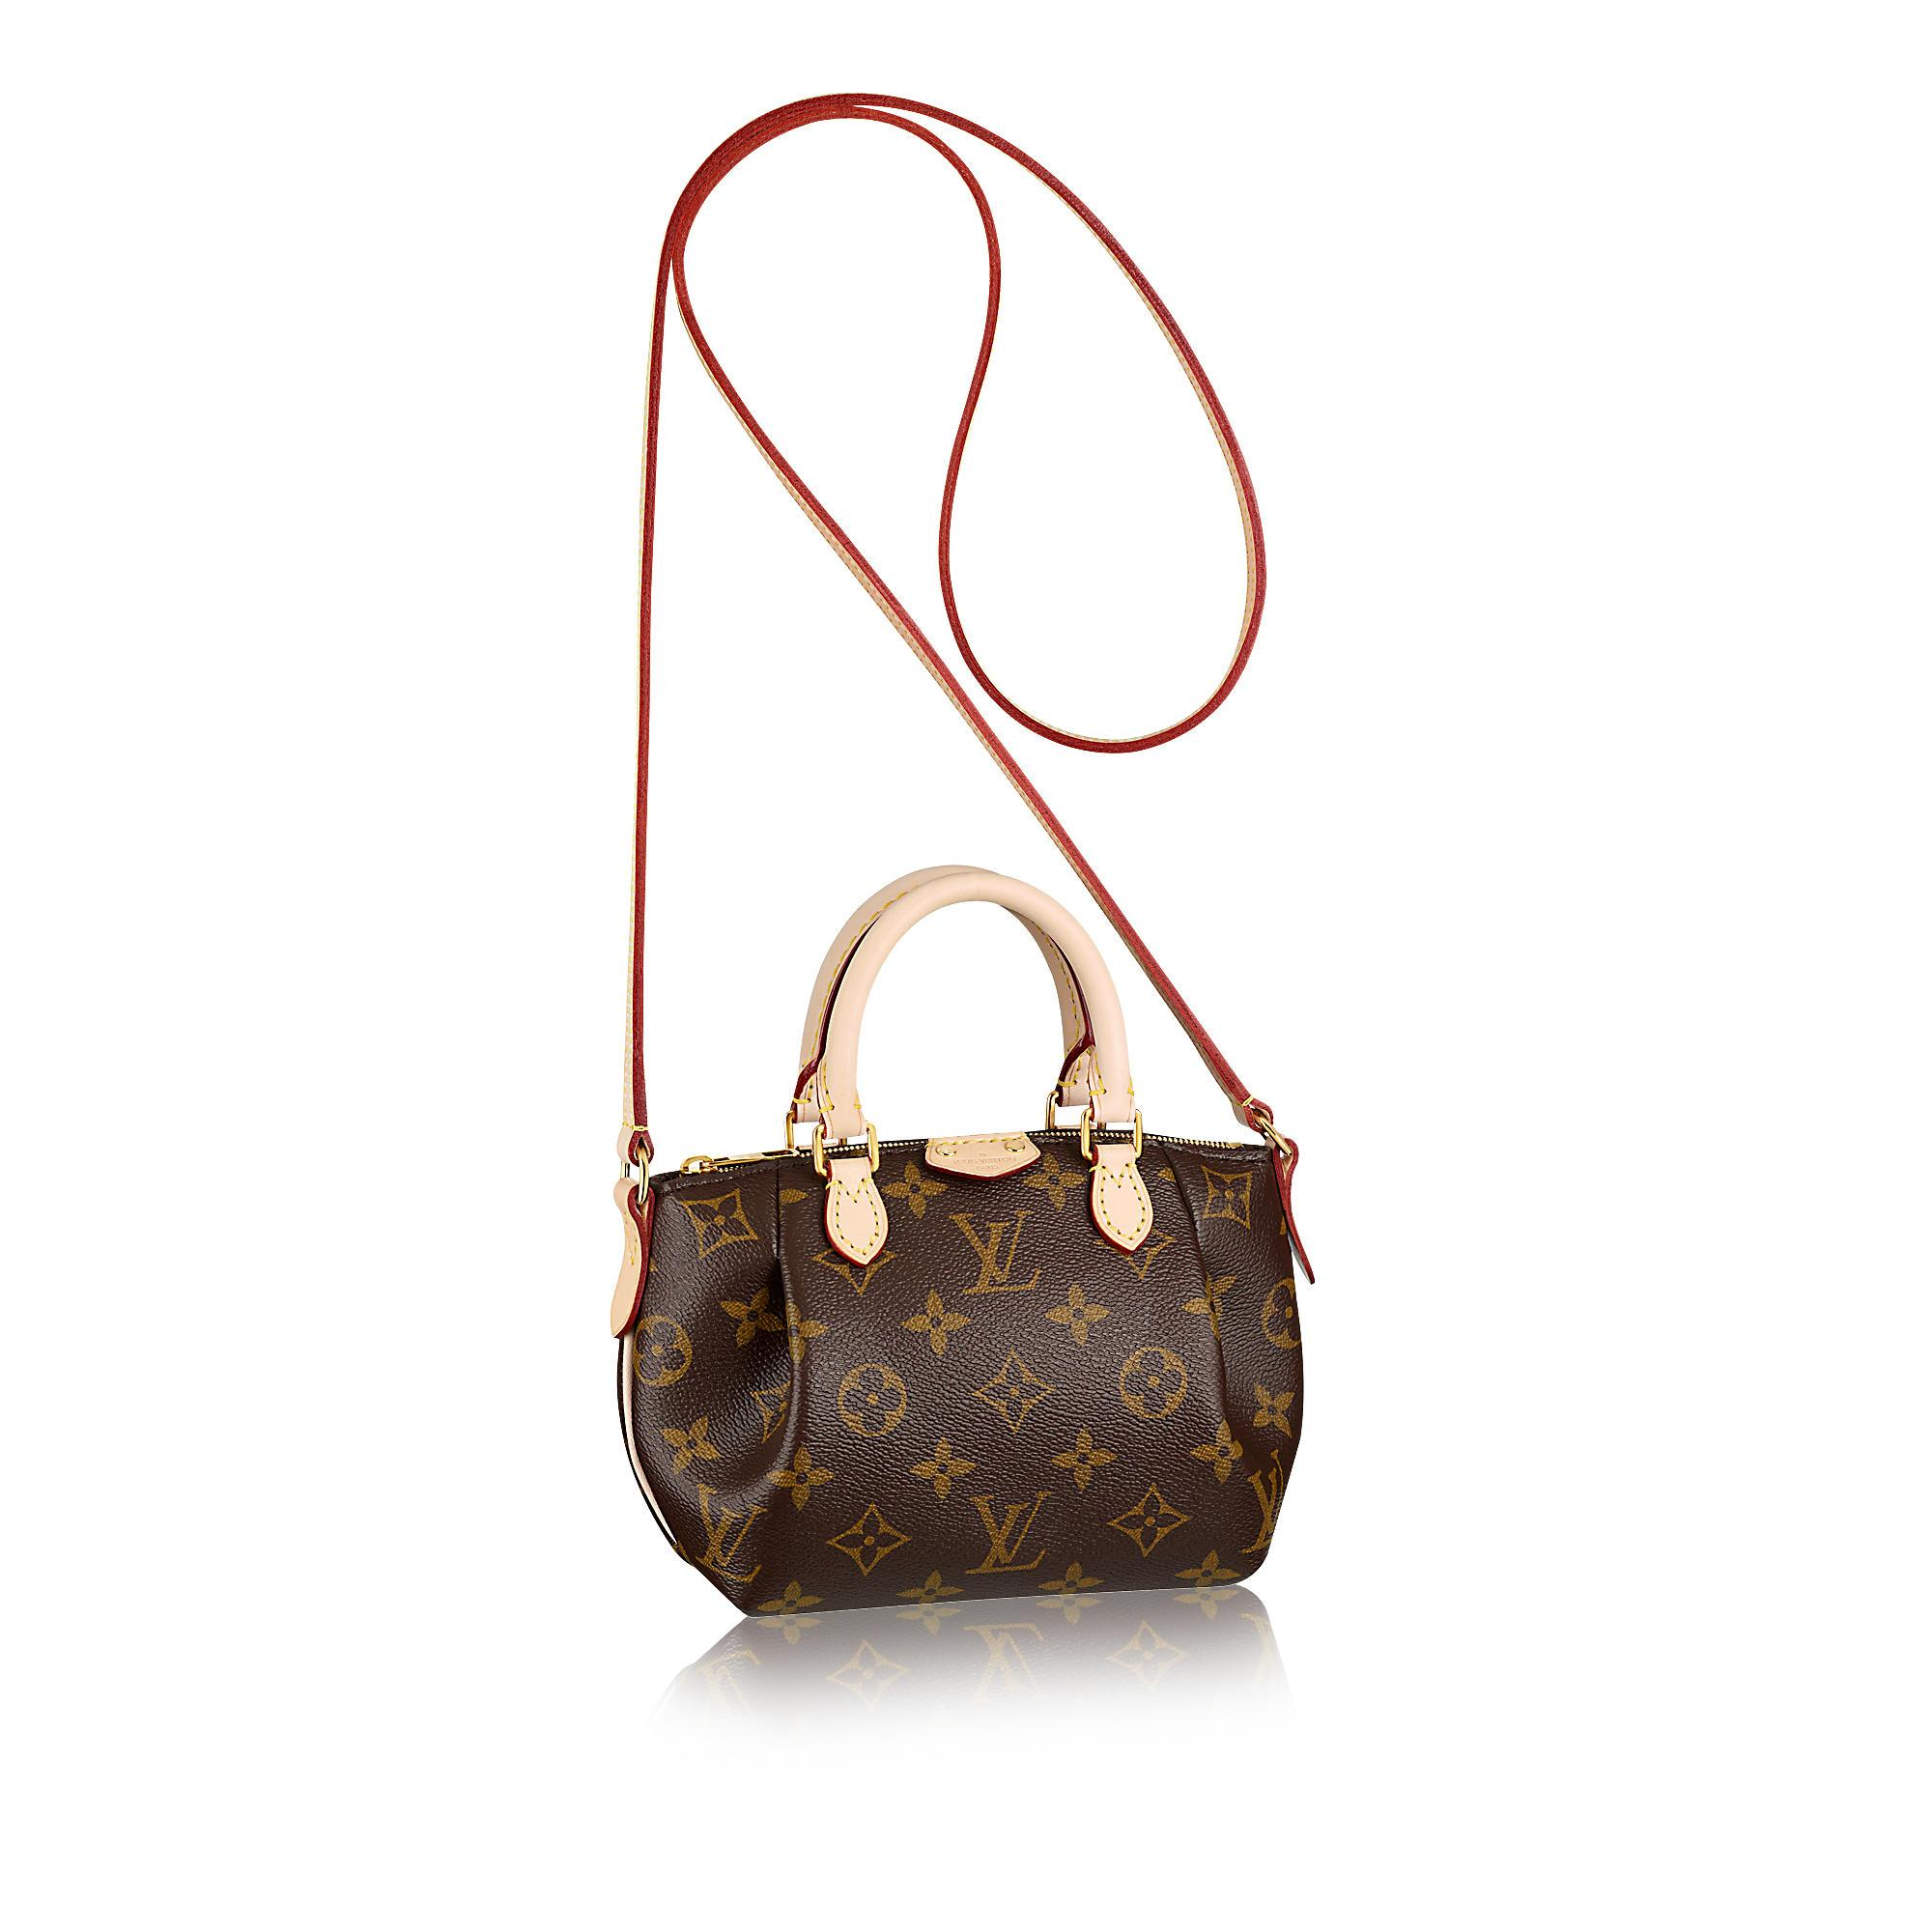LOUIS-VUITTON: (948, 1205, 1044, 1299), (962, 1488, 1051, 1578), (692, 1483, 766, 1582), (1233, 1451, 1284, 1557)
